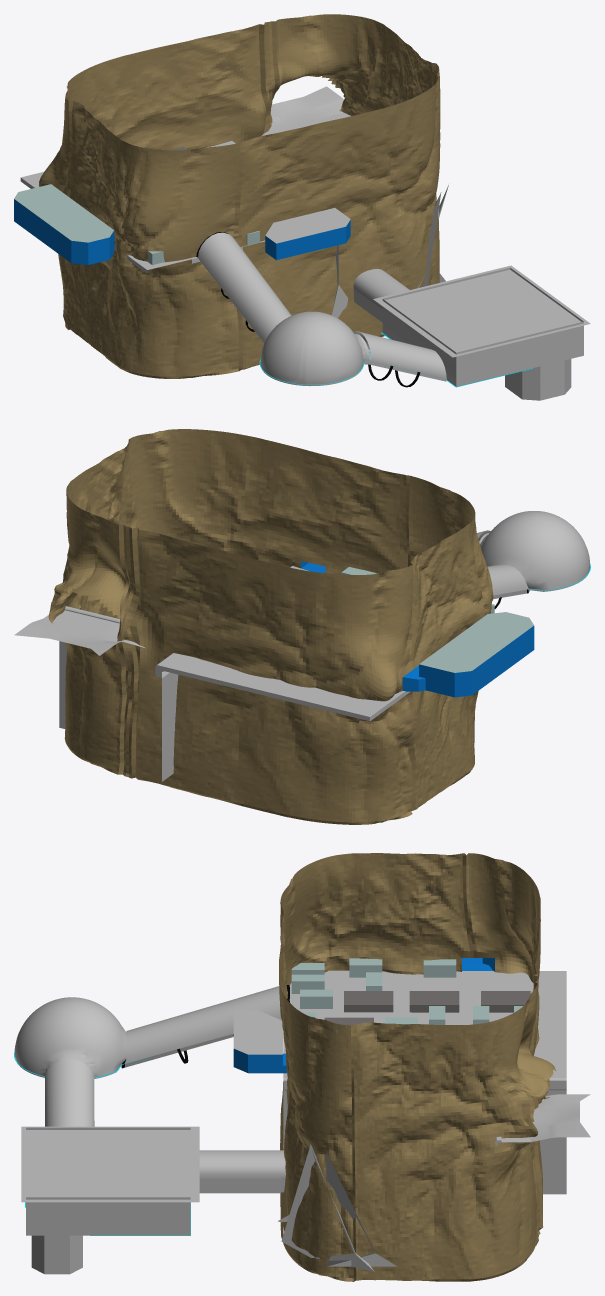
Rendered from Nivel 1.fbx.
The picture shows the model from 3 angles, top to bottom: view 1: azimuth 30°, elevation 25°; view 2: azimuth 150°, elevation 25°; view 3: azimuth 270°, elevation 25°; orthographic projection. The views are drawn at different scales.
Parts seen in each view (by area): view 1: Pared_Cueva, polySurface11, polySurface16, Pared_Cueva2, Techo, Entrada, Techo1, polySurface6; view 2: Pared_Cueva, polySurface11, polySurface6, Entrada, Techo, Pared_Cueva2; view 3: Pared_Cueva, polySurface11, polySurface16, polySurface6, Entrada, Techo1, Pared_Cueva2, pCube10, pCube22, pCube21, pCube40, pCube20 (+5 smaller).
Part boxes in pixels (x1=…): Pared_Cueva: x1=39, y1=14, x2=440, y2=378; polySurface11: x1=196, y1=232, x2=583, y2=400; polySurface16: x1=373, y1=265, x2=590, y2=357; Pared_Cueva2: x1=14, y1=199, x2=350, y2=264; Techo: x1=14, y1=184, x2=113, y2=242; Entrada: x1=261, y1=86, x2=350, y2=135; Techo1: x1=265, y1=208, x2=350, y2=243; polySurface6: x1=20, y1=141, x2=338, y2=286; Pared_Cueva: x1=48, y1=429, x2=493, y2=824; polySurface11: x1=477, y1=511, x2=589, y2=599; polySurface6: x1=155, y1=566, x2=410, y2=781; Entrada: x1=14, y1=606, x2=145, y2=729; Techo: x1=419, y1=612, x2=533, y2=672; Pared_Cueva2: x1=301, y1=561, x2=534, y2=697; Pared_Cueva: x1=279, y1=853, x2=556, y2=1281; polySurface11: x1=14, y1=985, x2=289, y2=1274; polySurface16: x1=21, y1=1126, x2=199, y2=1202; polySurface6: x1=283, y1=970, x2=566, y2=1194; Entrada: x1=495, y1=1094, x2=590, y2=1145; Techo1: x1=233, y1=1010, x2=282, y2=1054; Pared_Cueva2: x1=233, y1=958, x2=494, y2=1073; pCube10: x1=326, y1=1153, x2=396, y2=1266; pCube22: x1=344, y1=991, x2=393, y2=1012; pCube21: x1=409, y1=991, x2=459, y2=1012; pCube40: x1=281, y1=1144, x2=316, y2=1257; pCube20: x1=481, y1=991, x2=530, y2=1012.
Size of the model in its own units: 179 by 104 by 210.
